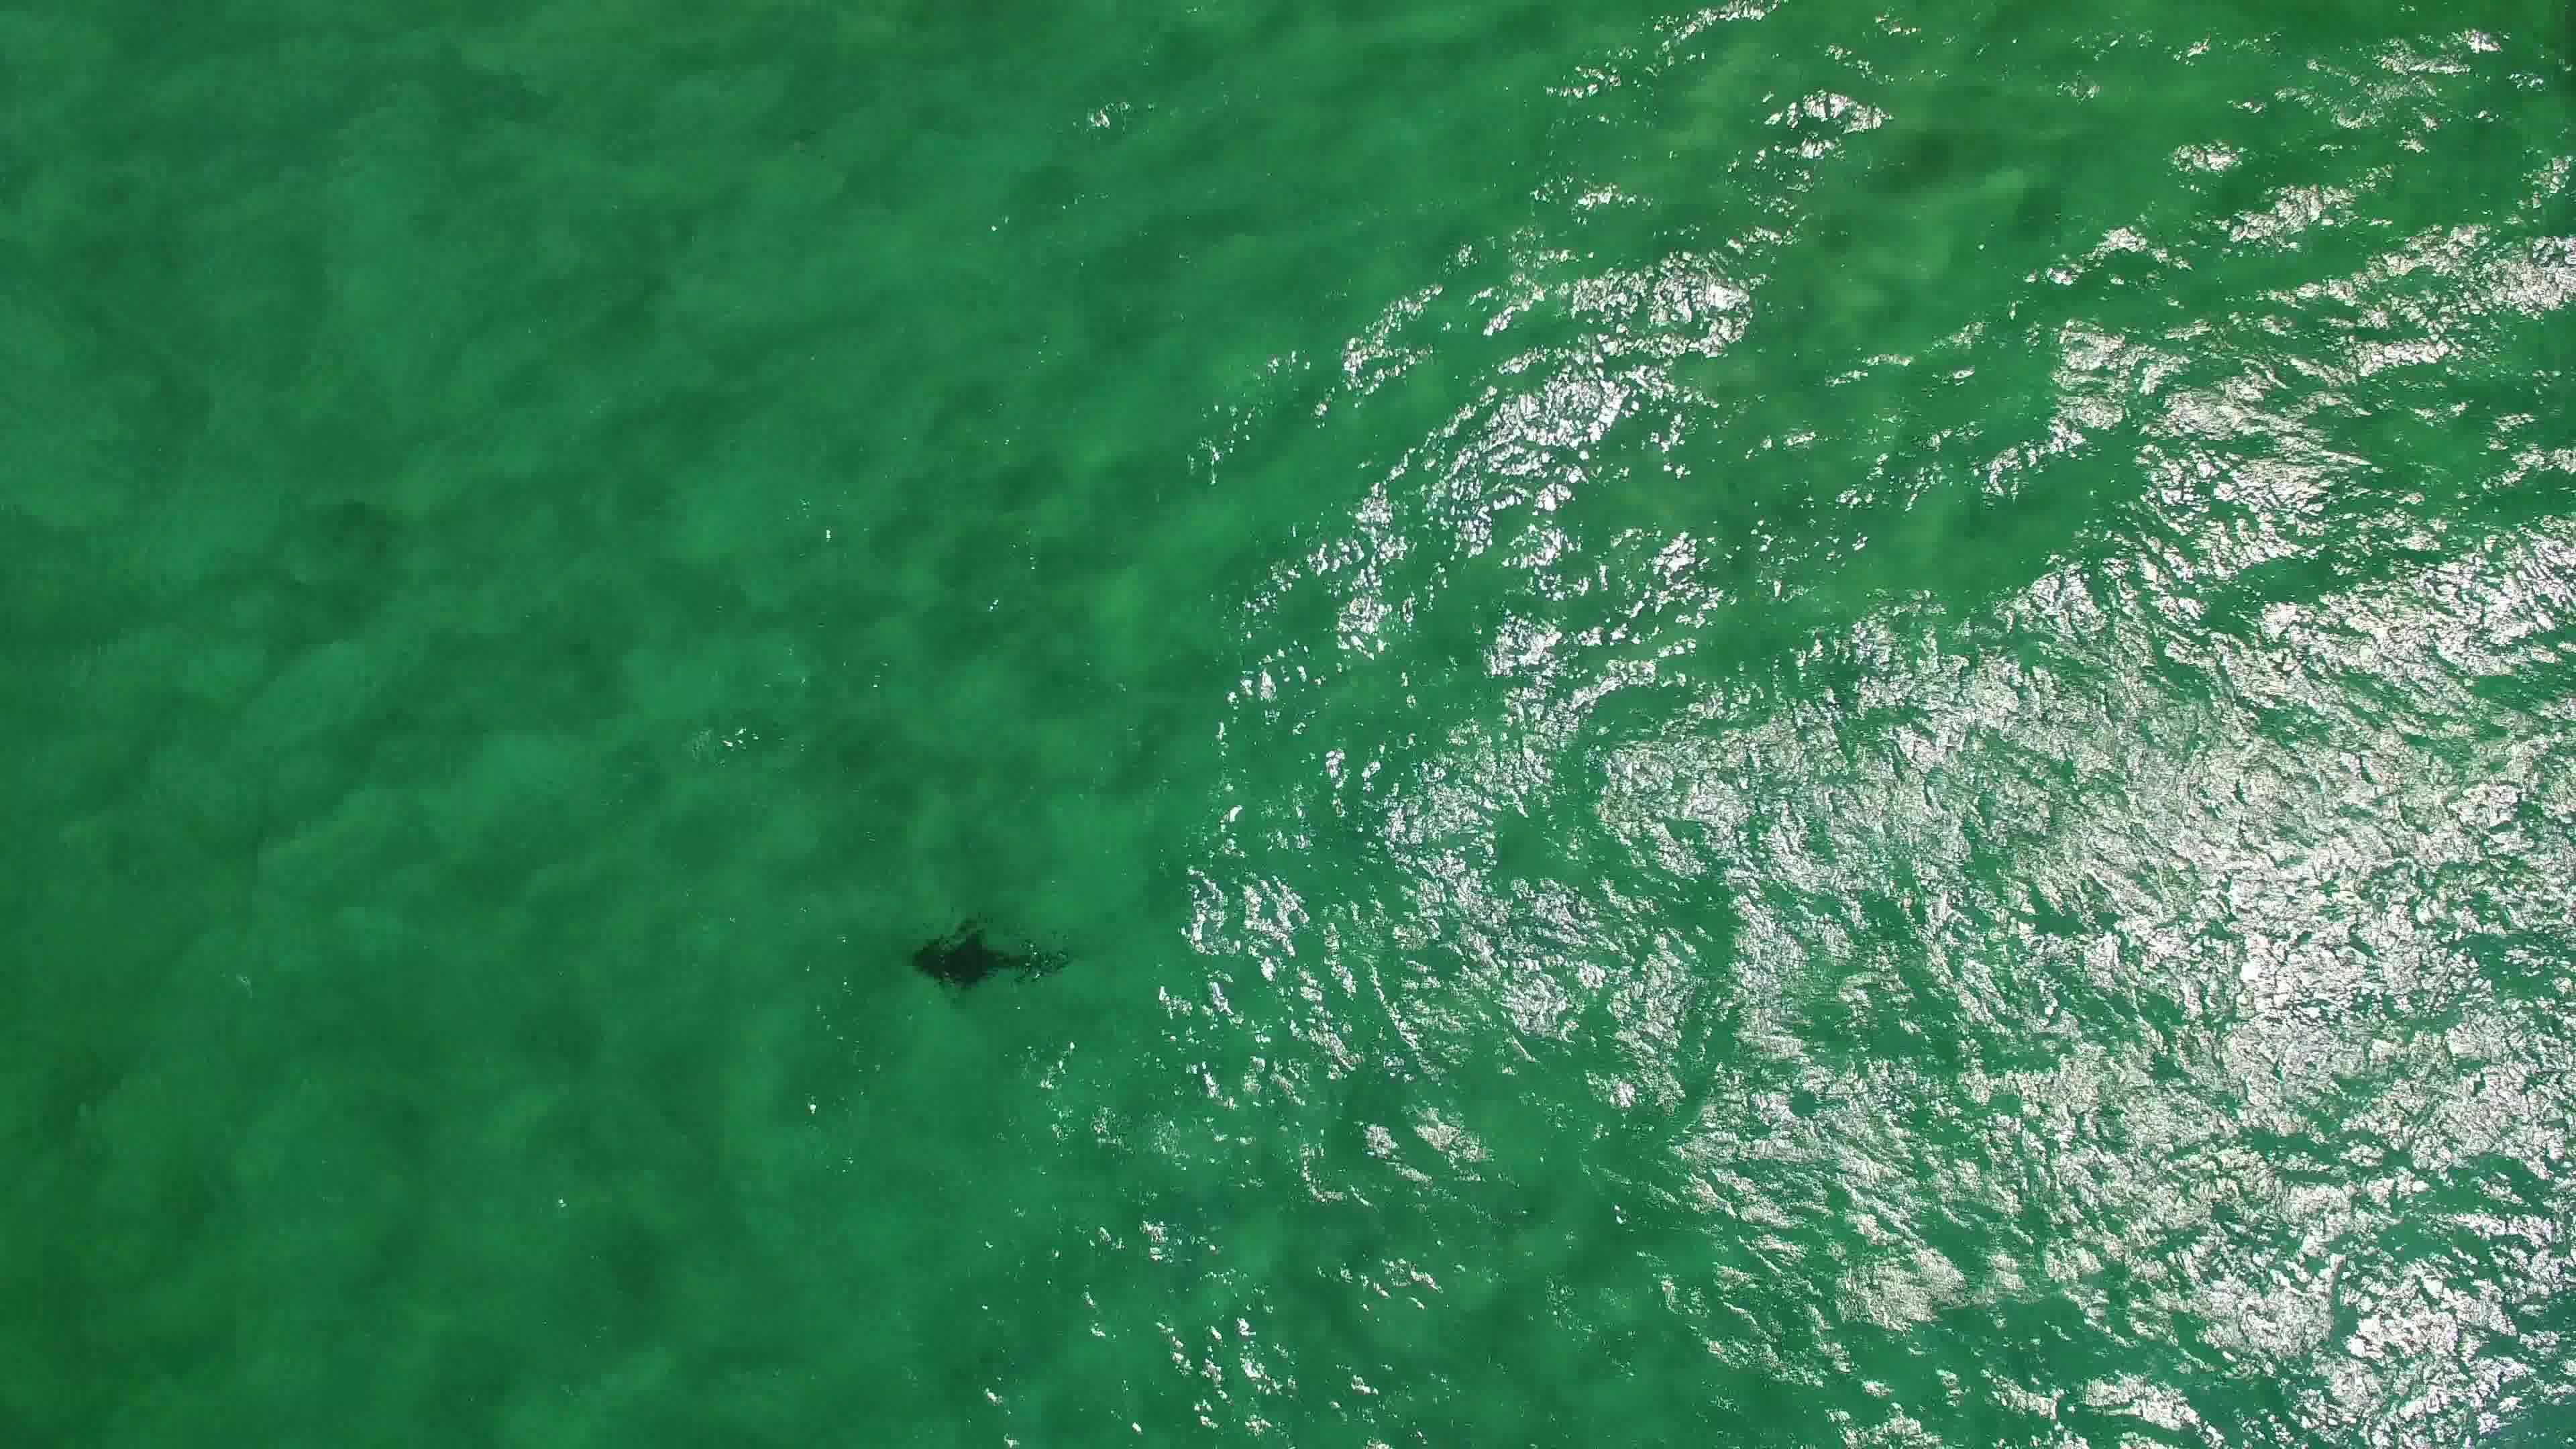shark: (908, 911, 1077, 1008)
